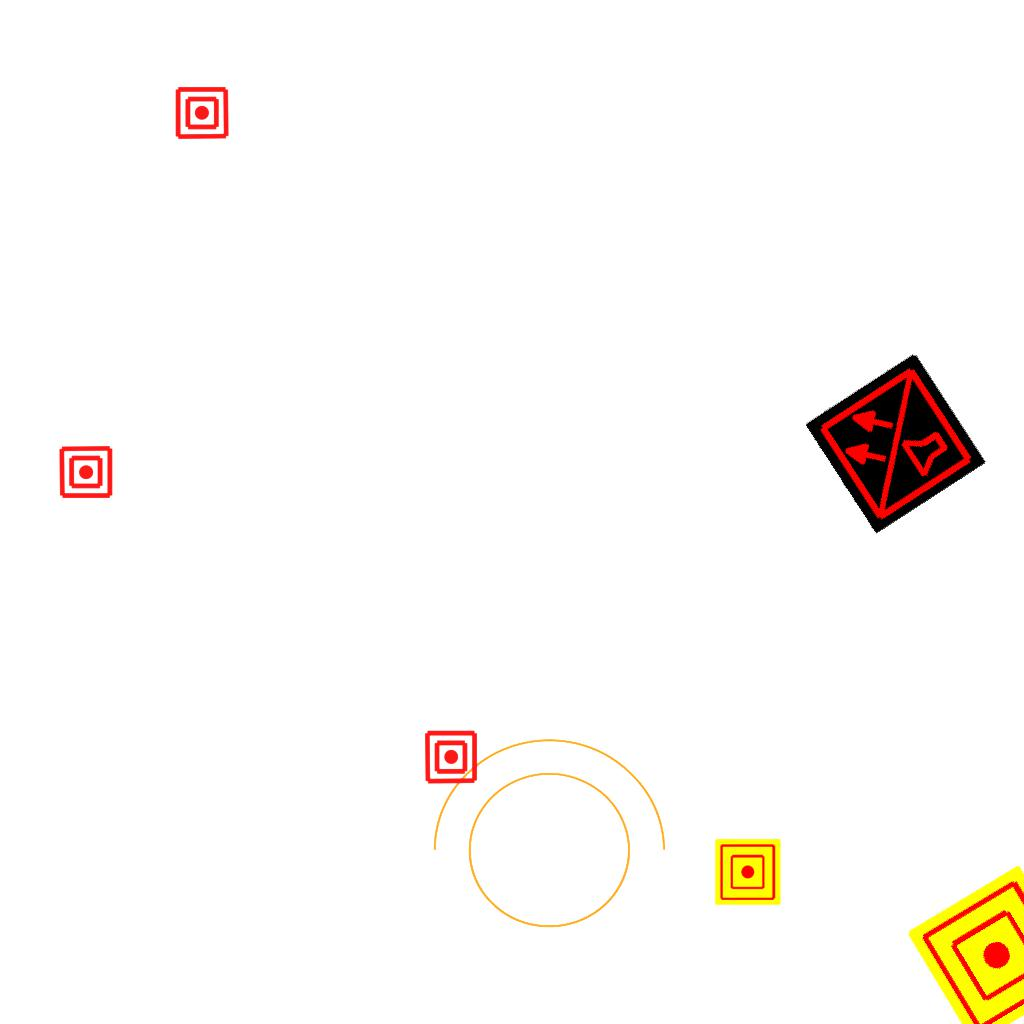NAM-Nichtautomatischer_Melder: (906, 864, 1024, 1024), (715, 839, 781, 905), (174, 85, 230, 141), (58, 444, 114, 500), (423, 729, 479, 785)
OKW_Multisensormelder_(Kombination_optischer_Rauch-Kahlenmonoxid_Waerme-Melder): (803, 351, 987, 535)
Scheinwerfer_fuer_Alarmbeleuchtung: (411, 728, 675, 953)
